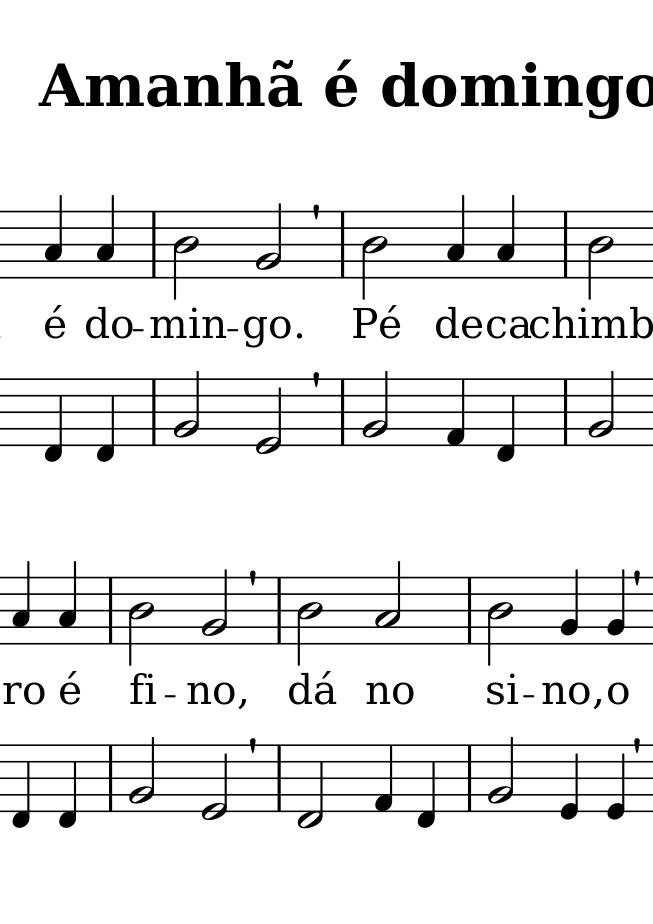2_-1: (296, 744, 326, 830)
2_0: (254, 374, 284, 456), (200, 741, 230, 823)
2_2: (360, 370, 391, 448), (172, 369, 202, 447), (587, 370, 617, 447), (127, 735, 156, 814), (486, 736, 515, 814), (255, 203, 284, 280), (374, 563, 402, 642), (201, 568, 229, 645)
2_4: (127, 575, 157, 668), (587, 208, 616, 301), (360, 208, 388, 302), (296, 576, 324, 670), (486, 576, 512, 669), (173, 210, 198, 297)
4_-1: (93, 375, 117, 464), (55, 741, 78, 831), (414, 740, 437, 830), (42, 375, 65, 464), (9, 742, 32, 830), (494, 374, 516, 464)
4_0: (558, 743, 582, 822), (605, 745, 627, 822)
4_1: (442, 376, 467, 448), (371, 742, 394, 814)
4_2: (559, 568, 581, 645), (605, 569, 626, 646)
4_3: (94, 197, 117, 280), (495, 196, 517, 279), (445, 196, 467, 278), (43, 194, 64, 278), (57, 561, 78, 644), (11, 561, 32, 643)
Single_barline: (146, 212, 162, 275), (336, 378, 351, 445), (103, 578, 118, 643), (103, 745, 118, 810), (272, 576, 286, 645), (336, 212, 350, 277), (147, 380, 161, 445), (560, 376, 573, 443), (559, 213, 573, 275)
